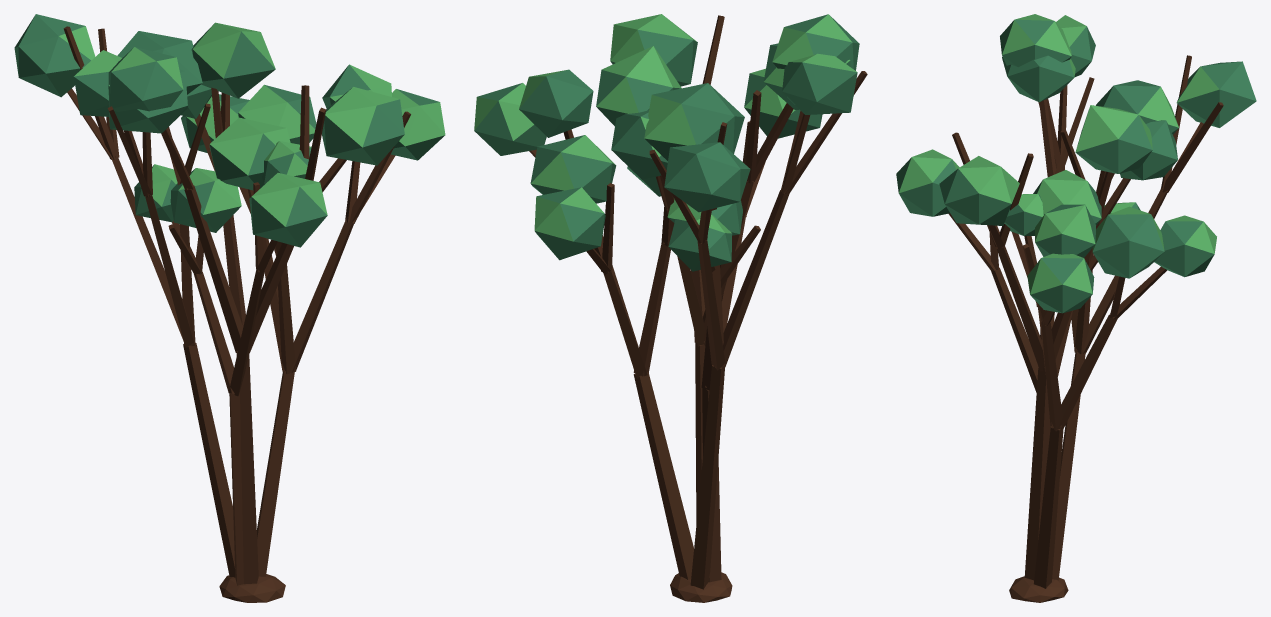
The model's file is alder.glb.
The picture shows the model from 3 angles, left to right: view 1: azimuth 30°, elevation 25°; view 2: azimuth 150°, elevation 25°; view 3: azimuth 270°, elevation 25°; orthographic projection. The views are drawn at different scales.
Visible parts, largest first — view 1: alder.001; view 2: alder.001; view 3: alder.001.
Part boxes in pixels (bbox=[...]): alder.001: bbox=[14, 14, 445, 602]; alder.001: bbox=[474, 14, 867, 602]; alder.001: bbox=[896, 14, 1256, 602].
Size of the model in its own units: 3.75 by 5.6 by 3.47.
